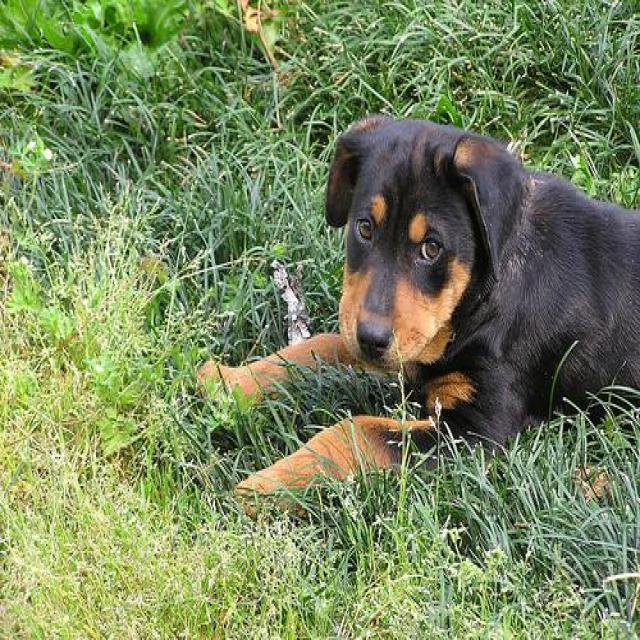relax: (218, 73, 638, 523)
